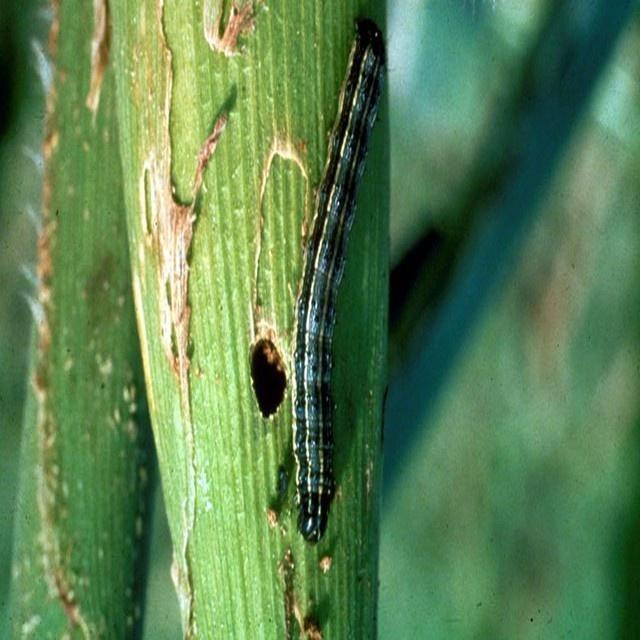Plaga: (288, 13, 394, 551)
